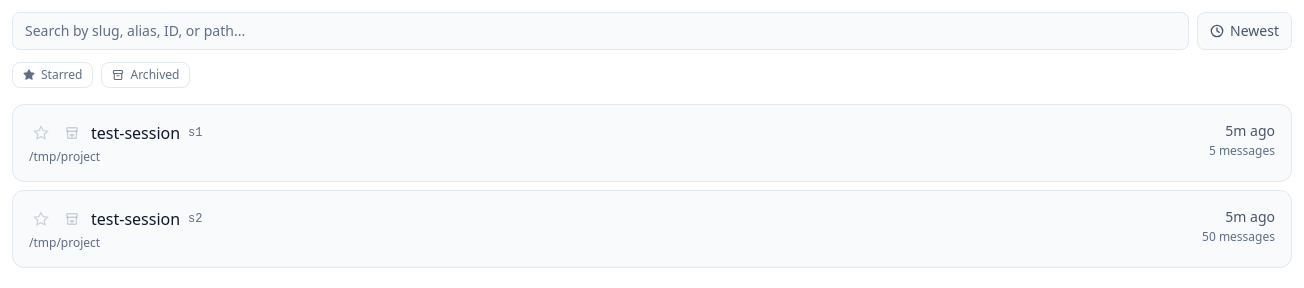
it: SessionList › toggles sort mode between newest and most messages
The width and height of the screenshot is (1304, 288).
Click the button "Newest": x=1245, y=31 1197,12 -> 1292,50
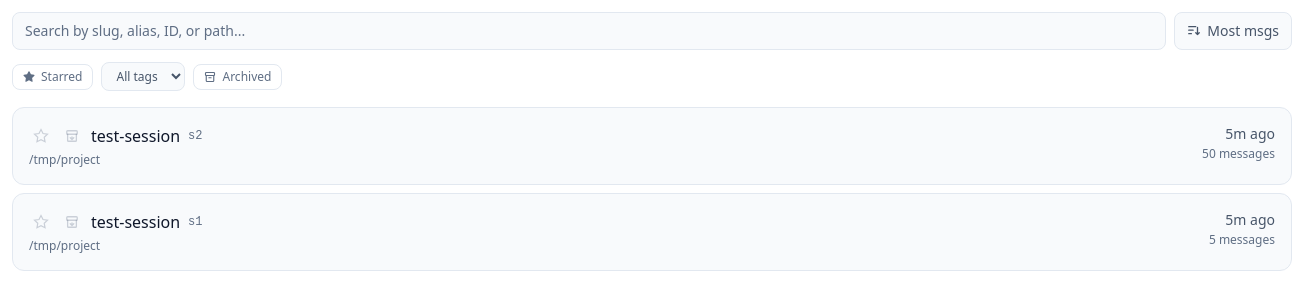
Now the button "Most msgs" is shown, box 1174,12 -> 1292,50
